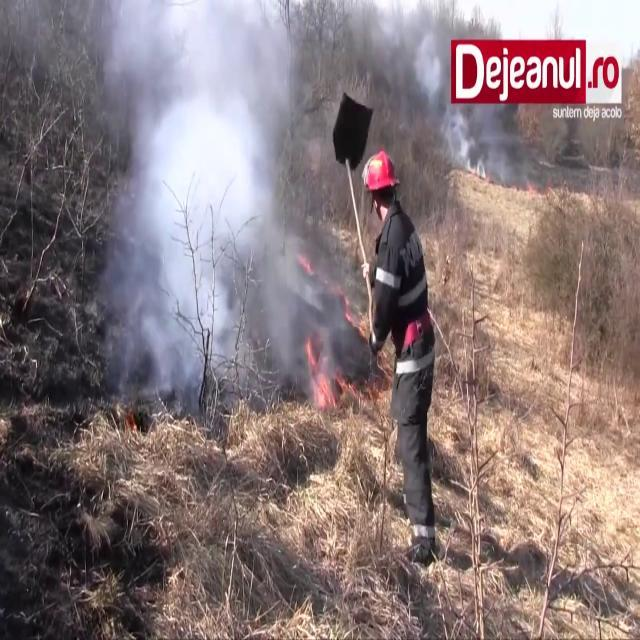Smoke: (81, 0, 347, 415)
